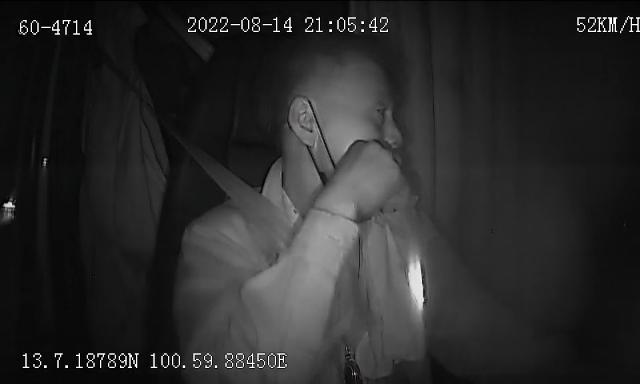Seatbelt: (179, 139, 303, 255)
